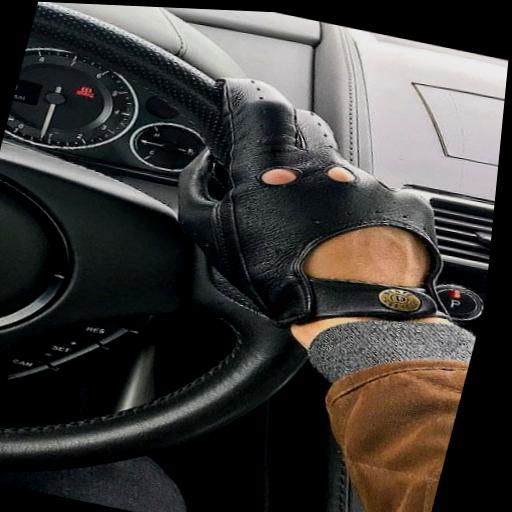Hands-on-the-Wheel: (94, 25, 510, 374)
